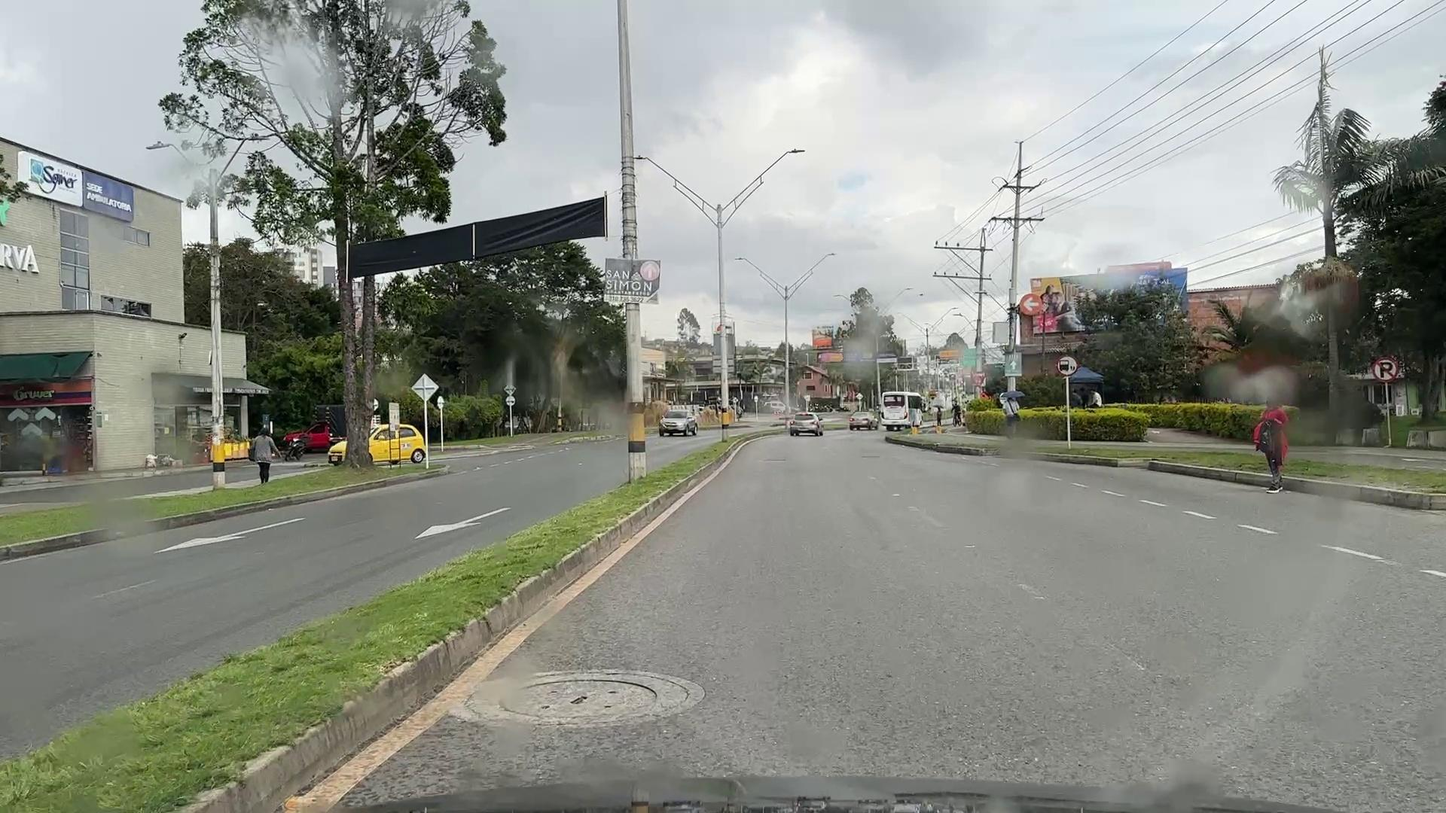registro: (500, 679, 656, 717)
